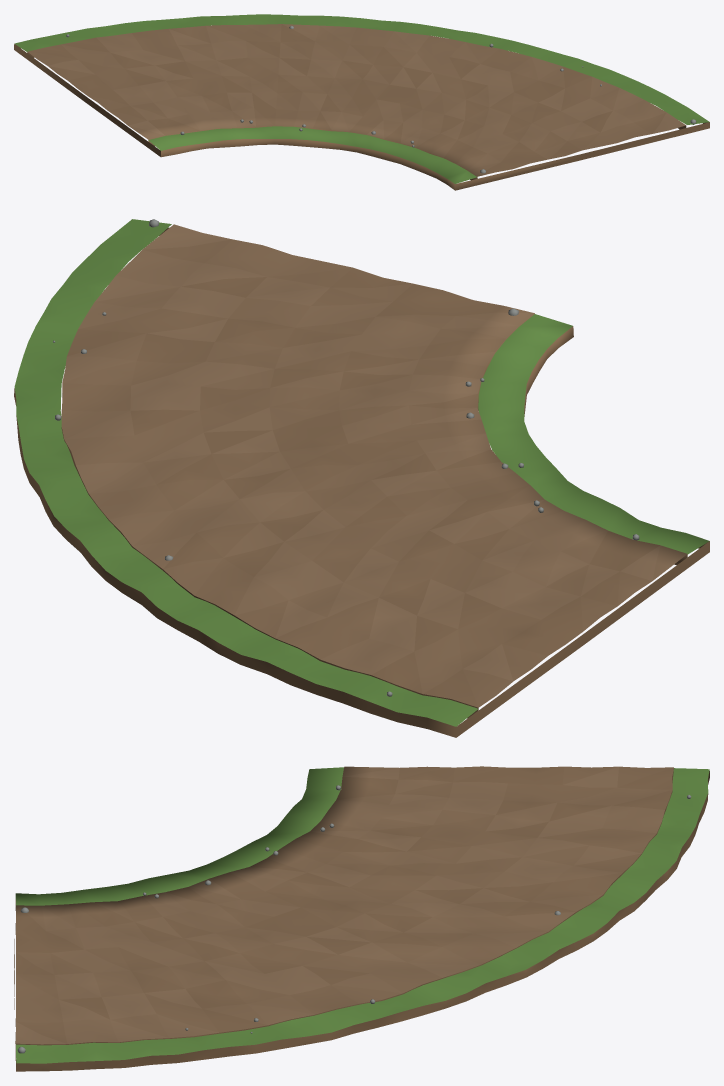
Rendered from dirt_curve.glb.
The picture shows the model from 3 angles, top to bottom: view 1: azimuth 30°, elevation 25°; view 2: azimuth 150°, elevation 25°; view 3: azimuth 270°, elevation 25°; orthographic projection. The views are drawn at different scales.
Parts seen in each view (by area): view 1: Body.007; view 2: Body.007; view 3: Body.007.
Part boxes in pixels (<box>): Body.007: <box>14,14,709,190</box>; Body.007: <box>14,219,709,737</box>; Body.007: <box>14,766,709,1071</box>.
Size of the model in its own units: 12.65 by 0.3123 by 12.65.
